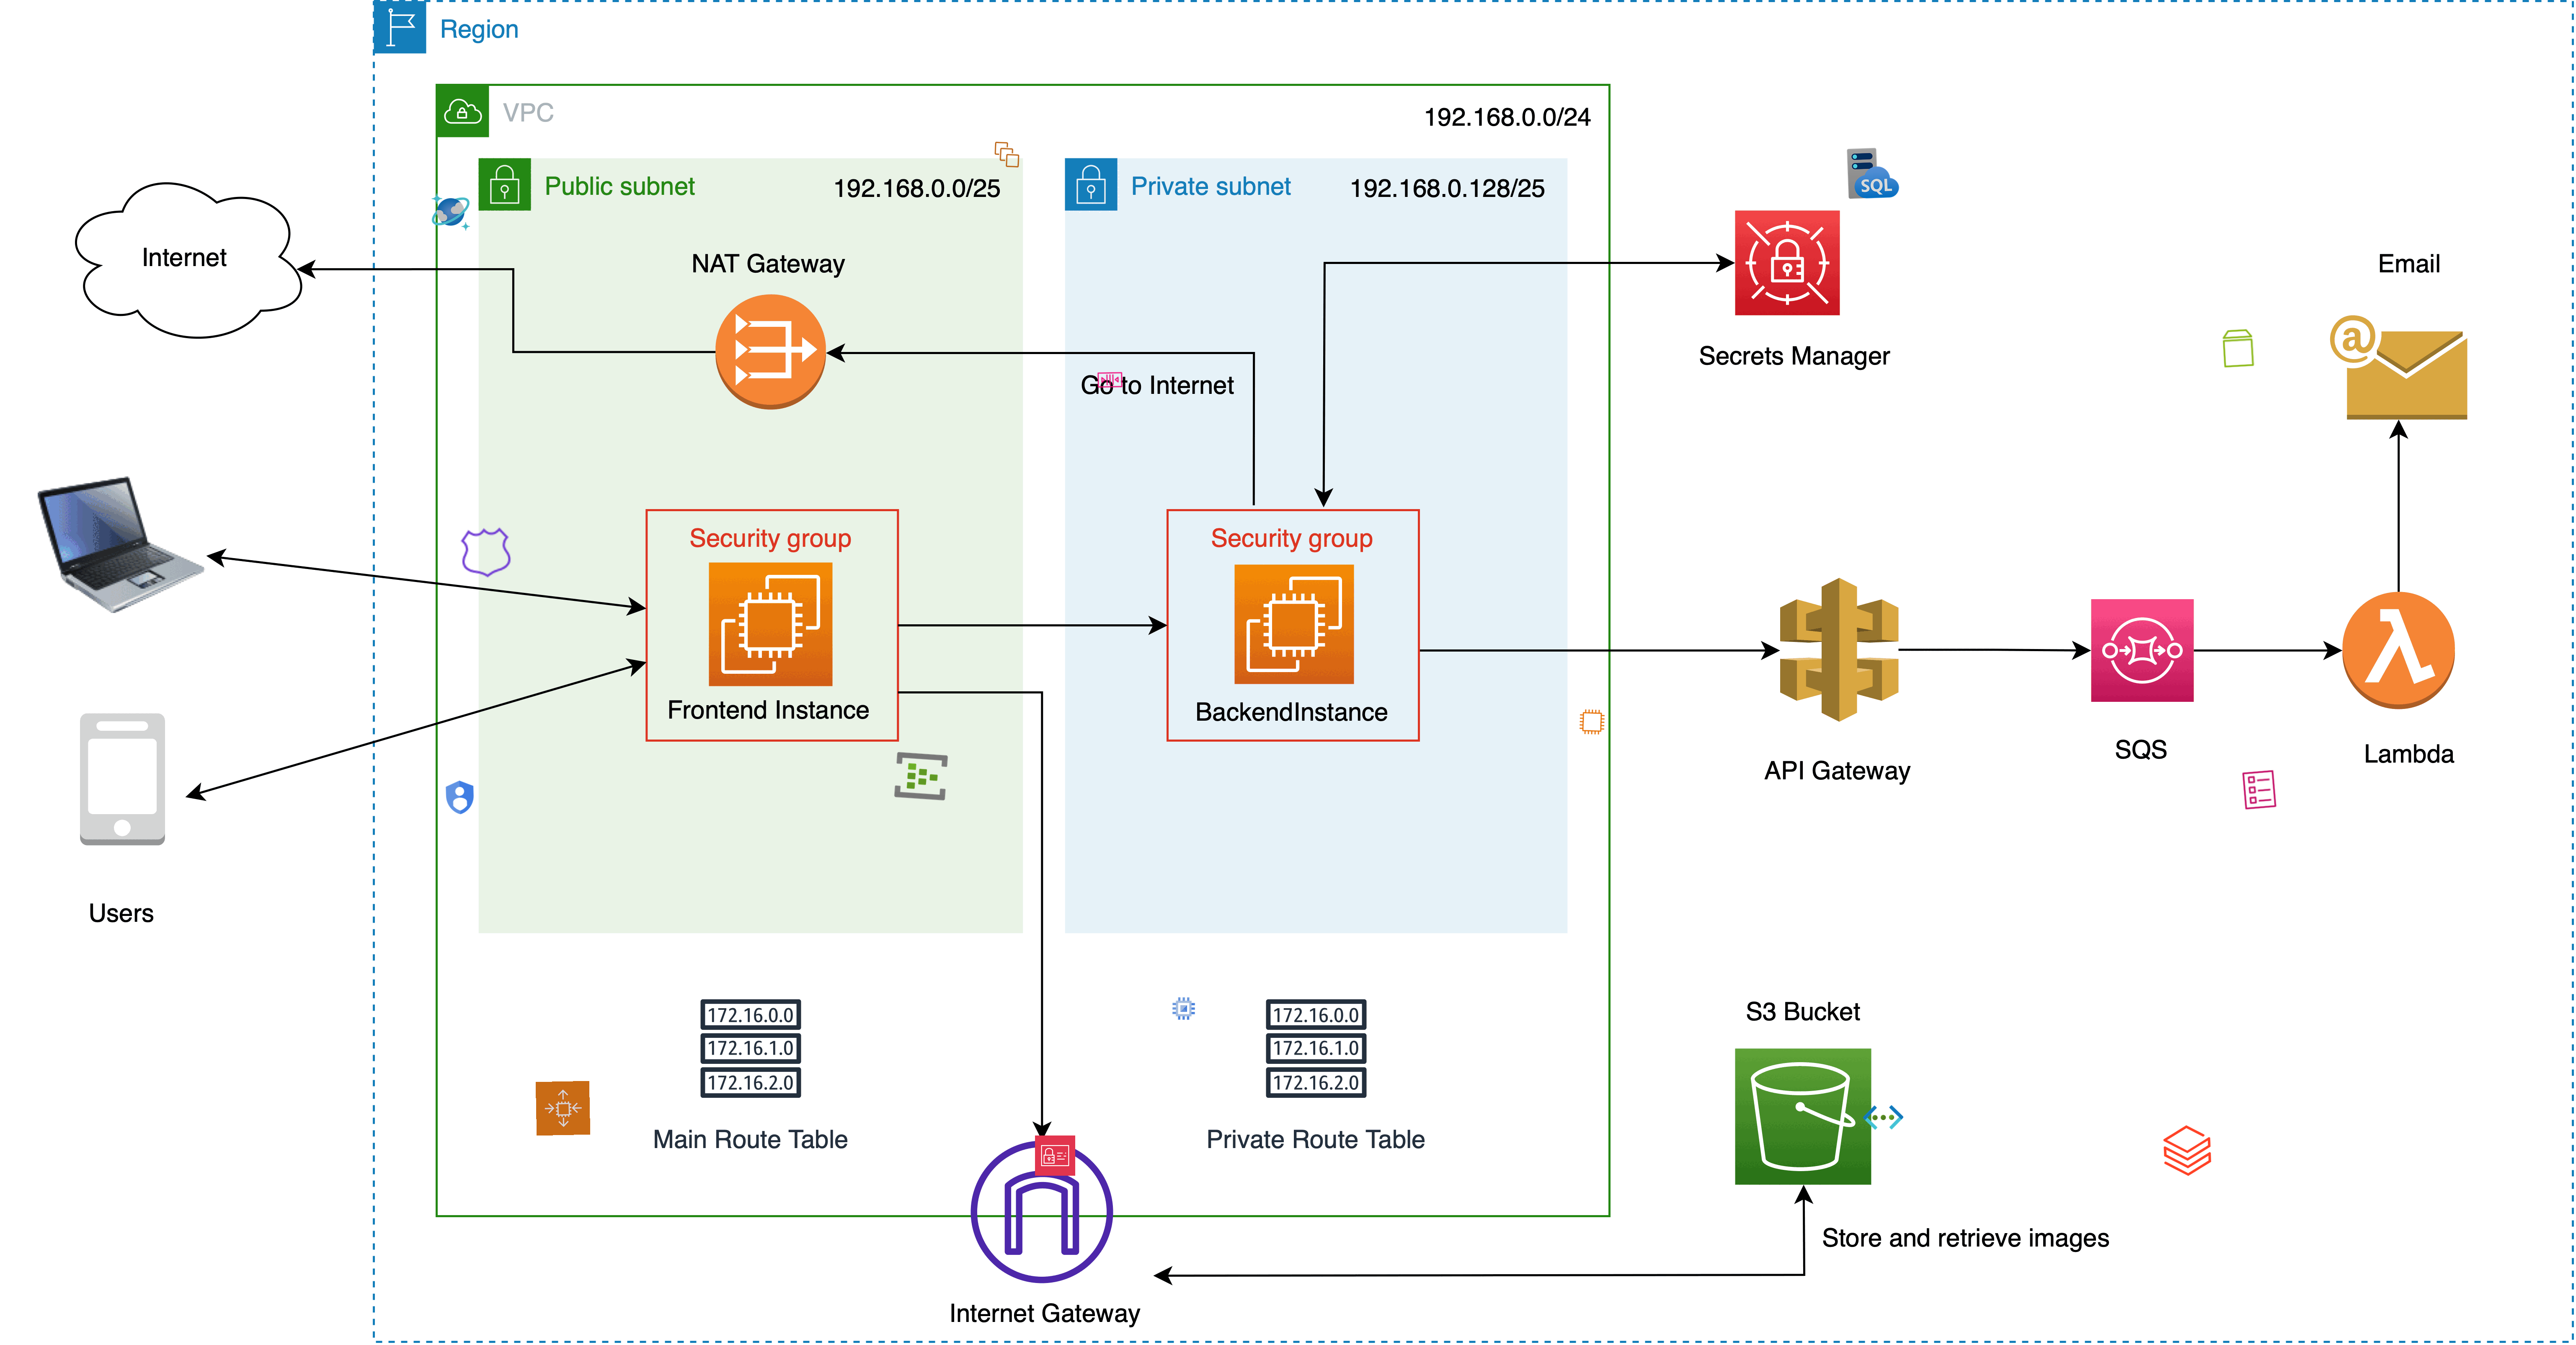aws_amazon_ec2_auto_scaling: (535, 1081, 591, 1135)
aws_cloudformation_template: (2237, 769, 2281, 811)
aws_ec2_instance: (1578, 707, 1607, 736)
aws_ec2_instances: (993, 140, 1021, 169)
aws_elastic_block_store_volume: (2217, 327, 2259, 370)
aws_identity_and_access_management: (1034, 1135, 1075, 1176)
aws_route_53_hosted_zone: (457, 523, 516, 581)
aws_simple_queue_service_queue: (1095, 367, 1124, 394)
azure_cosmos_db: (429, 191, 472, 232)
azure_databricks: (2159, 1122, 2215, 1178)
azure_event_hubs: (893, 747, 951, 805)
azure_sql_managed_instance: (1845, 145, 1901, 201)
azure_virtual_networks: (1862, 1096, 1903, 1139)
gcp_compute_engine: (1170, 996, 1198, 1023)
gcp_identity_and_access_management: (440, 776, 480, 818)
